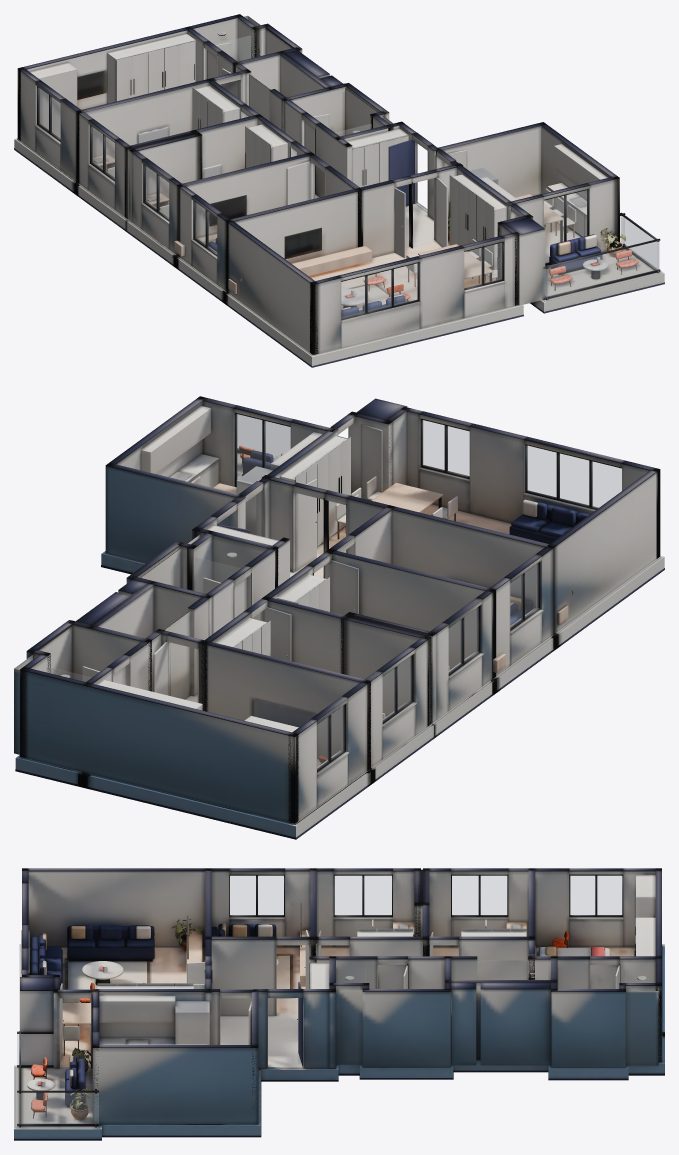
3 renders of one model, top to bottom at view 1: azimuth 30°, elevation 25°; view 2: azimuth 150°, elevation 25°; view 3: azimuth 270°, elevation 25°, orthographic. The views are drawn at different scales.
Visible parts, largest first — view 1: plan, railg2_m, glass4_m, glass6_m, glass5_m, railg5_m, glass2_m, glass1_m, glass0_m, glass3_m; view 2: plan, glass4_m, glass6_m, glass5_m, railg2_m, glass2_m, glass3_m, glass1_m, glass0_m, sg.003_m; view 3: plan, railg5_m, glass2_m, glass1_m, glass3_m, glass0_m, railg4_m.
Boxes of the visible parts, x1,y1,x2,y2 form: plan: (14, 14, 664, 367); railg2_m: (544, 241, 659, 296); glass4_m: (341, 263, 417, 318); glass6_m: (544, 190, 587, 262); glass5_m: (464, 243, 502, 288); railg5_m: (621, 216, 658, 270); glass2_m: (145, 166, 168, 218); glass1_m: (92, 127, 114, 178); glass0_m: (39, 88, 60, 138); glass3_m: (195, 202, 216, 253); plan: (14, 396, 664, 839); glass4_m: (527, 445, 621, 507); glass6_m: (236, 414, 290, 479); glass5_m: (422, 420, 469, 476); railg2_m: (238, 415, 289, 456); glass2_m: (449, 607, 478, 672); glass3_m: (510, 563, 538, 627); glass1_m: (383, 656, 411, 720); glass0_m: (317, 706, 343, 769); sg.003_m: (195, 558, 240, 592); plan: (14, 868, 664, 1140); railg5_m: (17, 1093, 98, 1123); glass2_m: (335, 876, 391, 915); glass1_m: (452, 876, 506, 915); glass3_m: (230, 876, 283, 915); glass0_m: (570, 876, 621, 915); railg4_m: (17, 1034, 53, 1064).
Bounding box in the file's own units: 11.8 × 2.62 × 17.47.
2 materials, 1 textured.
